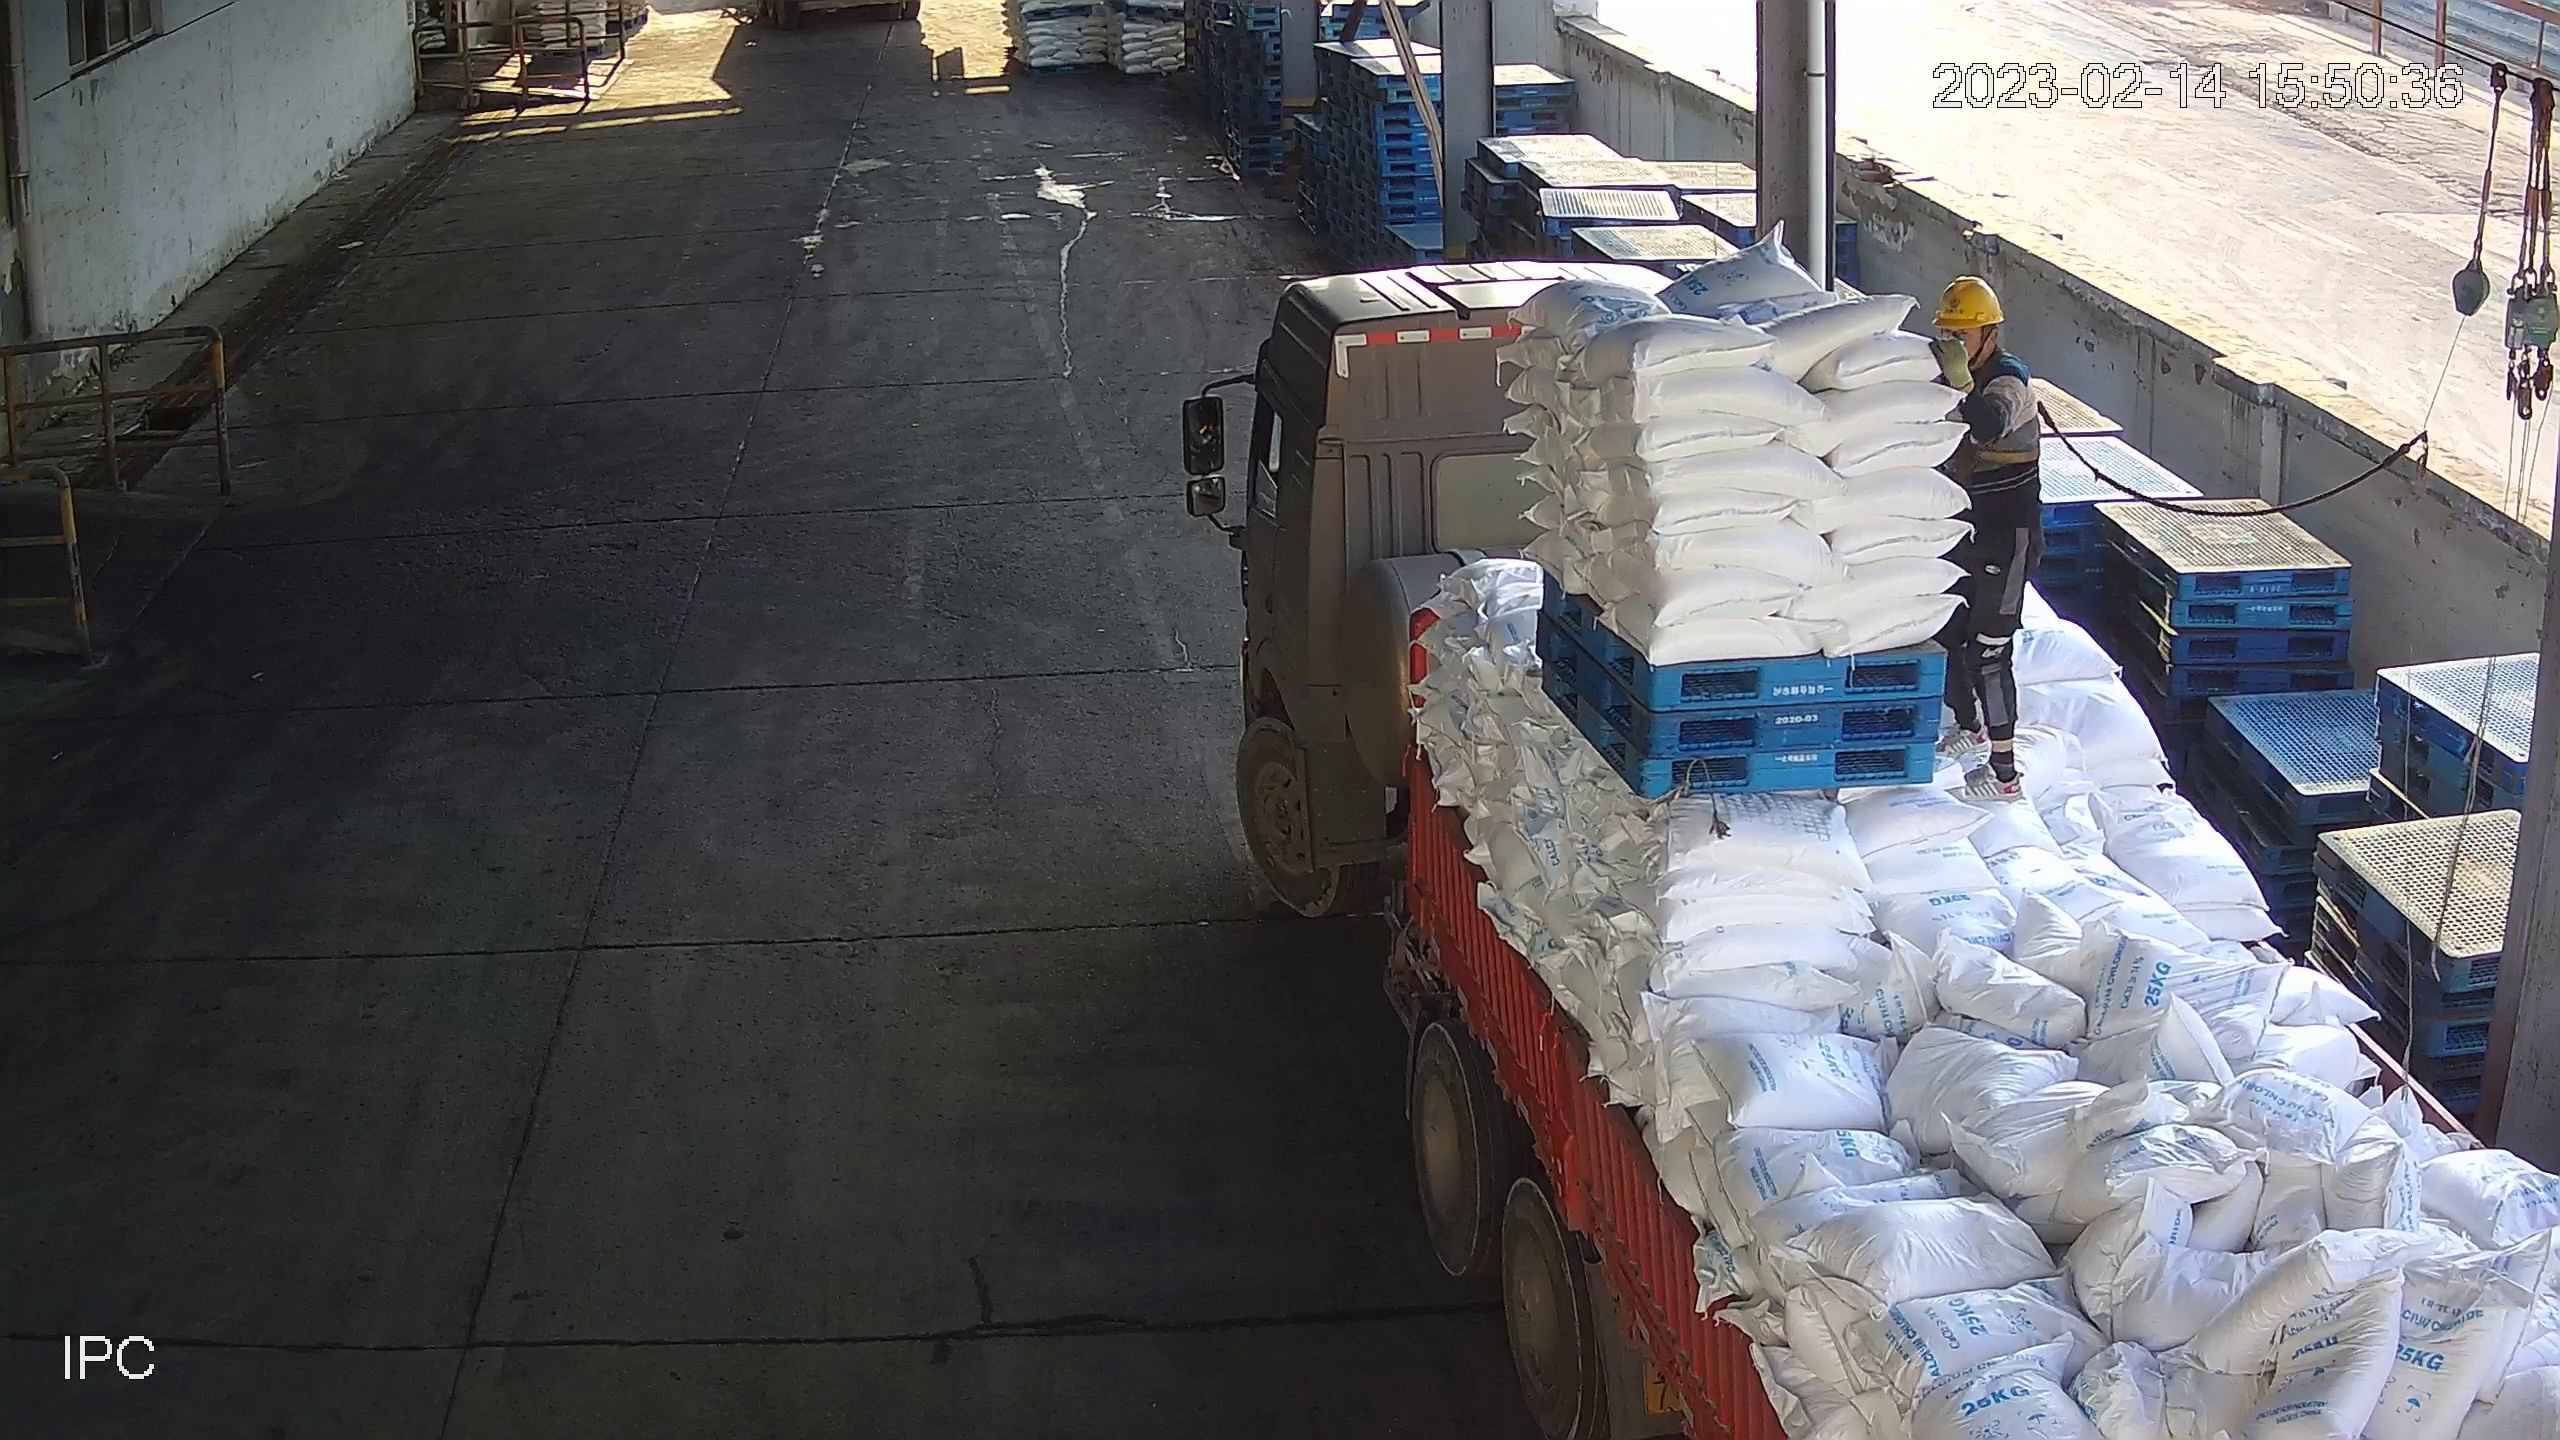head: (1932, 274, 2034, 403)
helmet: (1952, 363, 2051, 479), (1933, 273, 2007, 331)
people: (1928, 272, 2046, 805)
truck: (1236, 255, 2541, 1440)
